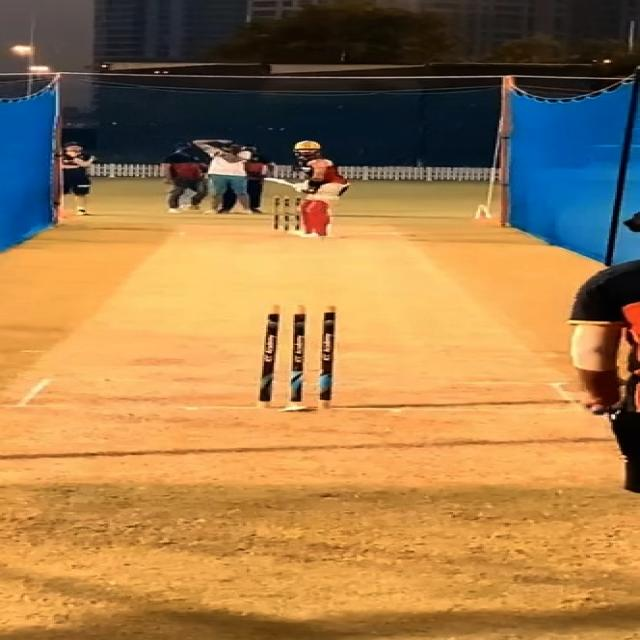batsman: (262, 140, 354, 238)
